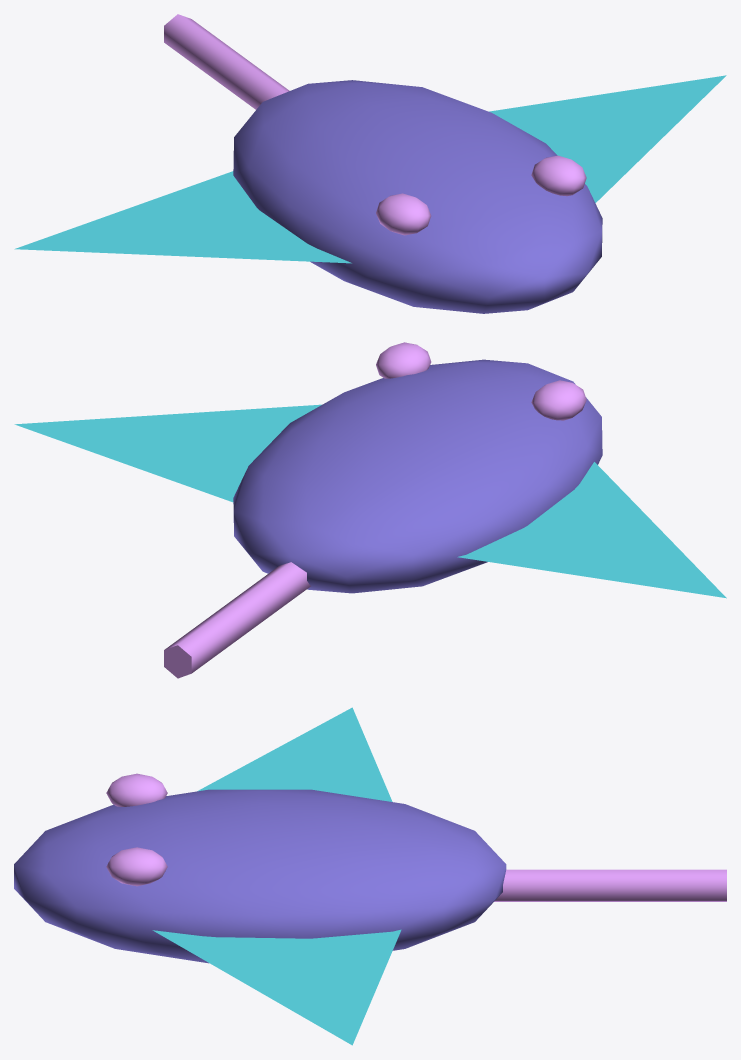
The picture shows the model from 3 angles, top to bottom: view 1: azimuth 30°, elevation 25°; view 2: azimuth 150°, elevation 25°; view 3: azimuth 270°, elevation 25°; orthographic projection. The views are drawn at different scales.
Parts seen in each view (by area): view 1: Ray body, Motion_voidray-1, Motion_voidray-2; view 2: Ray body, Motion_voidray-1, Motion_voidray-2; view 3: Ray body, Motion_voidray-1, Motion_voidray-2.
Boxes of the visible parts, x1,y1,x2,y2 form: Ray body: (233, 80, 602, 313); Motion_voidray-1: (14, 75, 726, 263); Motion_voidray-2: (164, 14, 586, 235); Ray body: (233, 359, 602, 593); Motion_voidray-1: (14, 404, 726, 598); Motion_voidray-2: (164, 342, 586, 678); Ray body: (14, 789, 506, 963); Motion_voidray-1: (152, 707, 401, 1045); Motion_voidray-2: (106, 773, 726, 901).
Bounding box in the file's own units: 1.56 × 0.2623 × 1.39.
